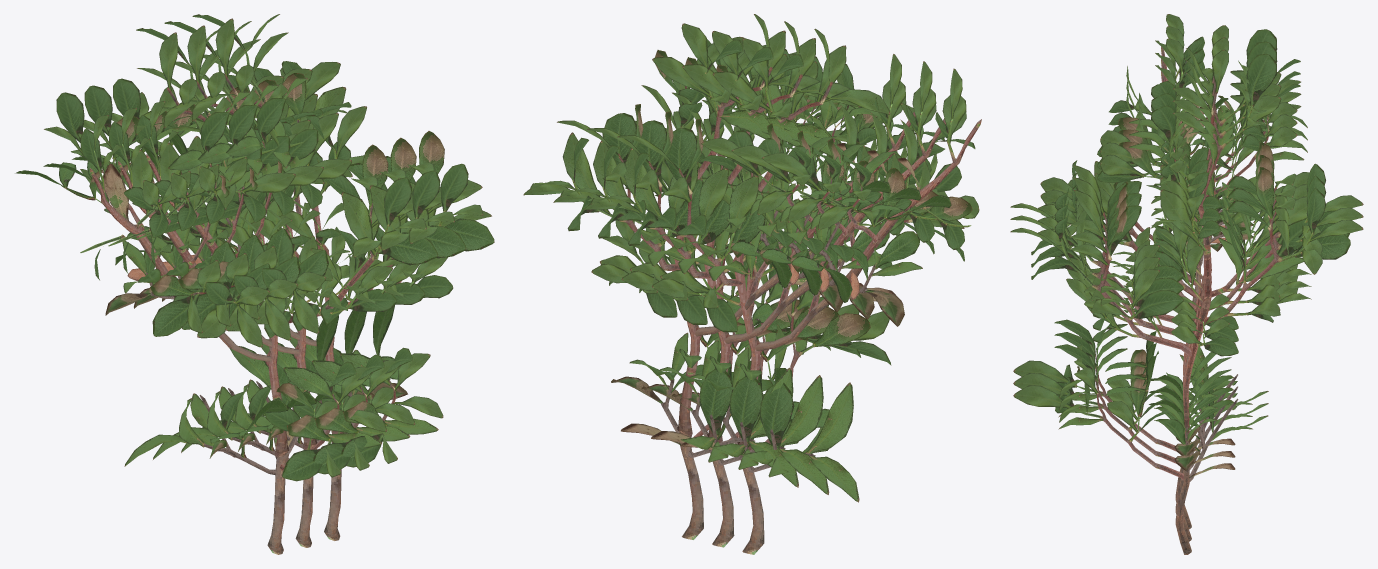
File: natural-leafy-berries-clear-depleted.glb
3 renders of one model, left to right at view 1: azimuth 30°, elevation 25°; view 2: azimuth 150°, elevation 25°; view 3: azimuth 270°, elevation 25°, orthographic. The views are drawn at different scales.
Parts seen in each view (by area): view 1: natural-leafy-berries-clear-depleted runtime mesh; view 2: natural-leafy-berries-clear-depleted runtime mesh; view 3: natural-leafy-berries-clear-depleted runtime mesh.
Boxes of the visible parts, x1,y1,x2,y2 form: natural-leafy-berries-clear-depleted runtime mesh: [15, 14, 494, 554]; natural-leafy-berries-clear-depleted runtime mesh: [523, 14, 981, 554]; natural-leafy-berries-clear-depleted runtime mesh: [1010, 14, 1363, 554].
Size of the model in its own units: 0.8185 by 1.05 by 0.7176.
1 material, 1 textured.
